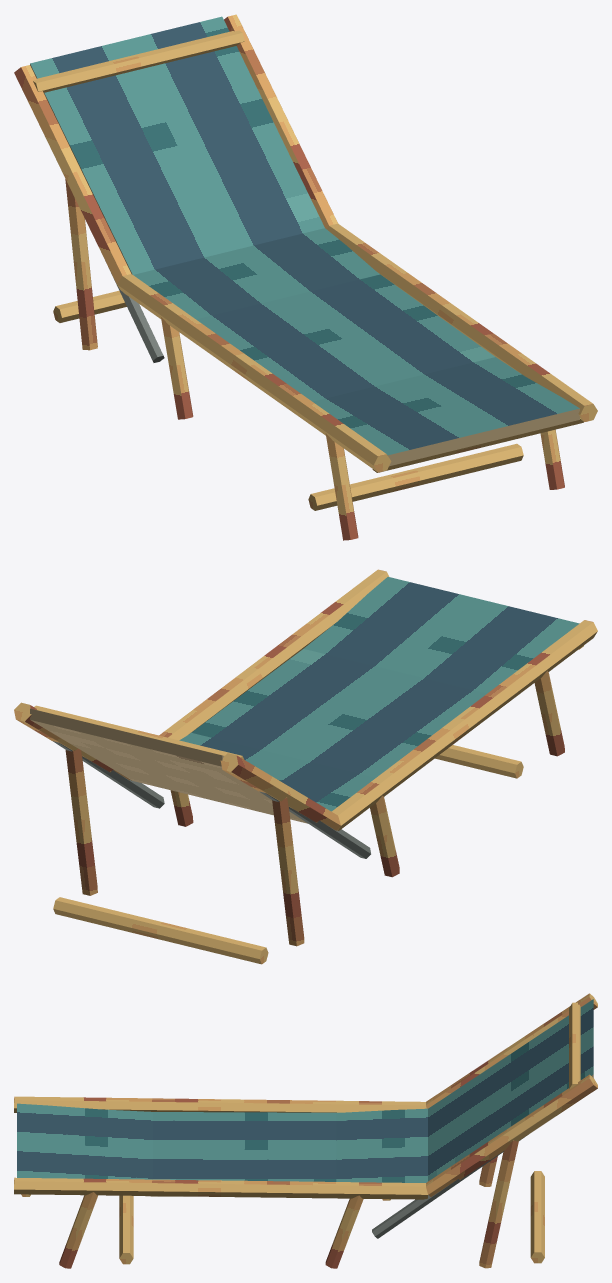
The model's file is lounger.glb.
3 views of the same model, one above another, from view 1: azimuth 30°, elevation 25°; view 2: azimuth 150°, elevation 25°; view 3: azimuth 270°, elevation 25° (orthographic). The views are drawn at different scales.
Parts seen in each view (by area): view 1: lounger; view 2: lounger; view 3: lounger.
Part boxes in pixels (x1,y1,x2,y2): lounger: (14, 14, 597, 540); lounger: (14, 569, 597, 964); lounger: (14, 993, 597, 1268).
Bounding box in the file's own units: 0.706 × 0.7123 × 1.97.
Materials: 1 (1 with a texture image).
